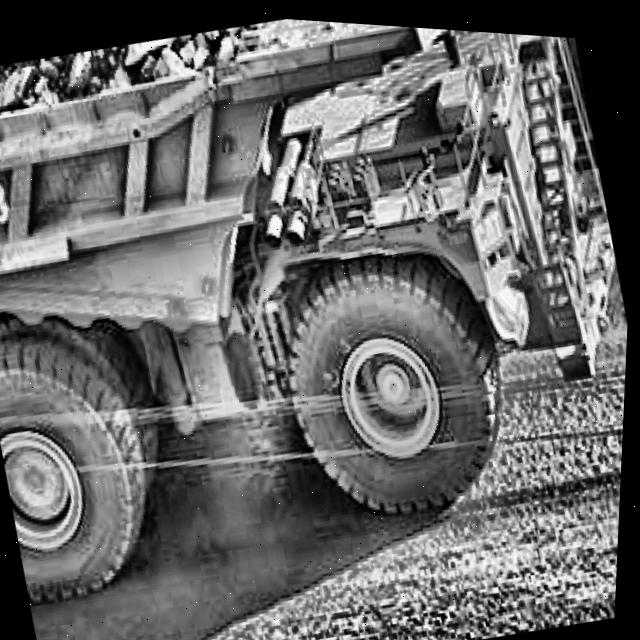dump_truck: (0, 0, 640, 636)
